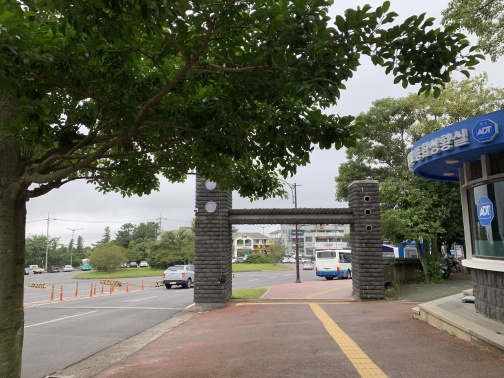Security Office: (407, 105, 504, 358)
